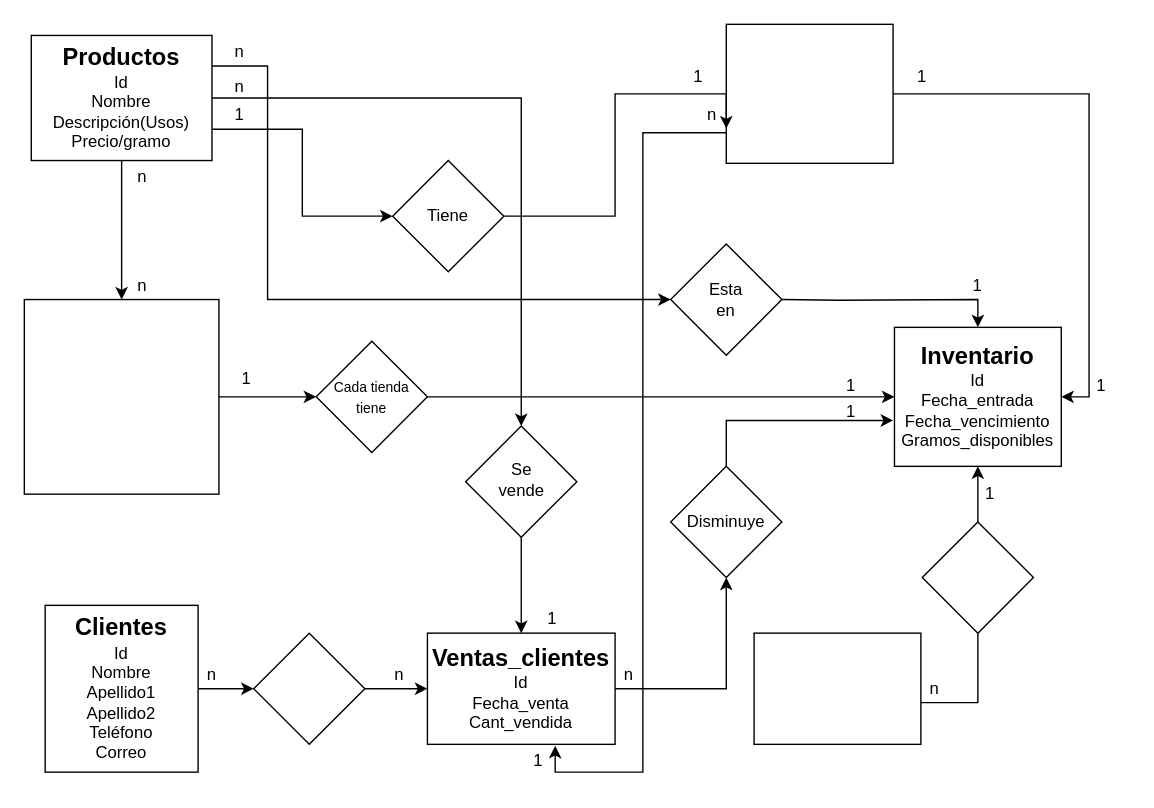
Some shapes in this 1154 by 808 pixel diagram are drawn without their labels. Each missing label, with the box of its shape:
Compra: (252, 632, 365, 744)
Compra de producto: (921, 521, 1033, 633)
Presentación Entero Polvo Seco Fresco: (725, 23, 893, 163)
Proveedores Id Nombre Descripción: (753, 632, 921, 744)
Tiendas Id Provincia Cantón Distrito Teléfono Correo: (23, 298, 219, 494)
